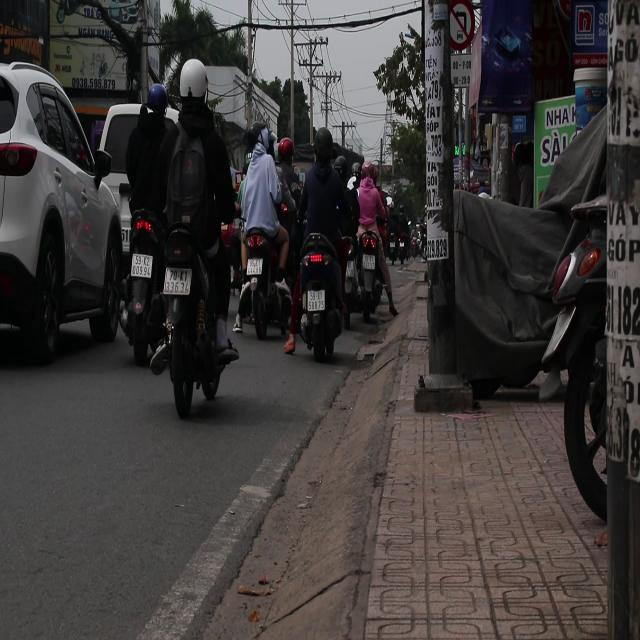car: (0, 55, 128, 368)
motorbike: (122, 84, 240, 386), (290, 235, 350, 362), (238, 224, 293, 344), (353, 218, 393, 352)
